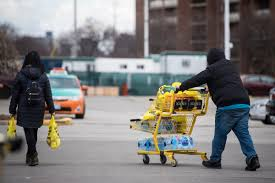Good: (9, 47, 248, 110)
